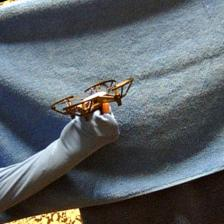drone: (50, 77, 134, 123)
